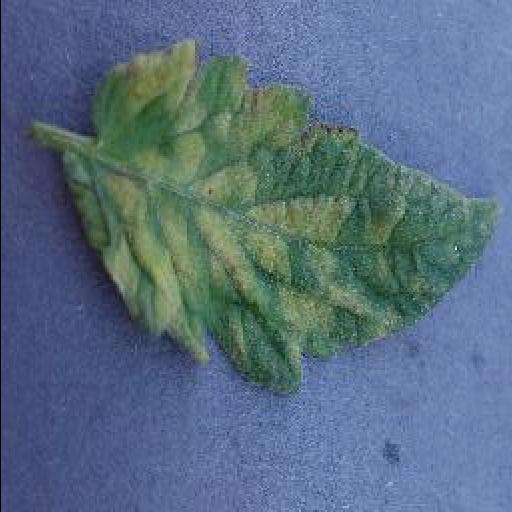disease_tomato: (60, 42, 502, 395)
